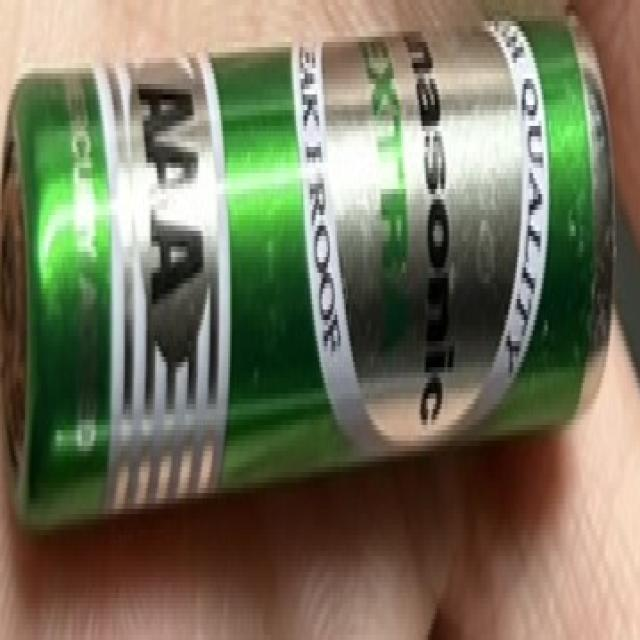battery: (2, 0, 640, 564)
